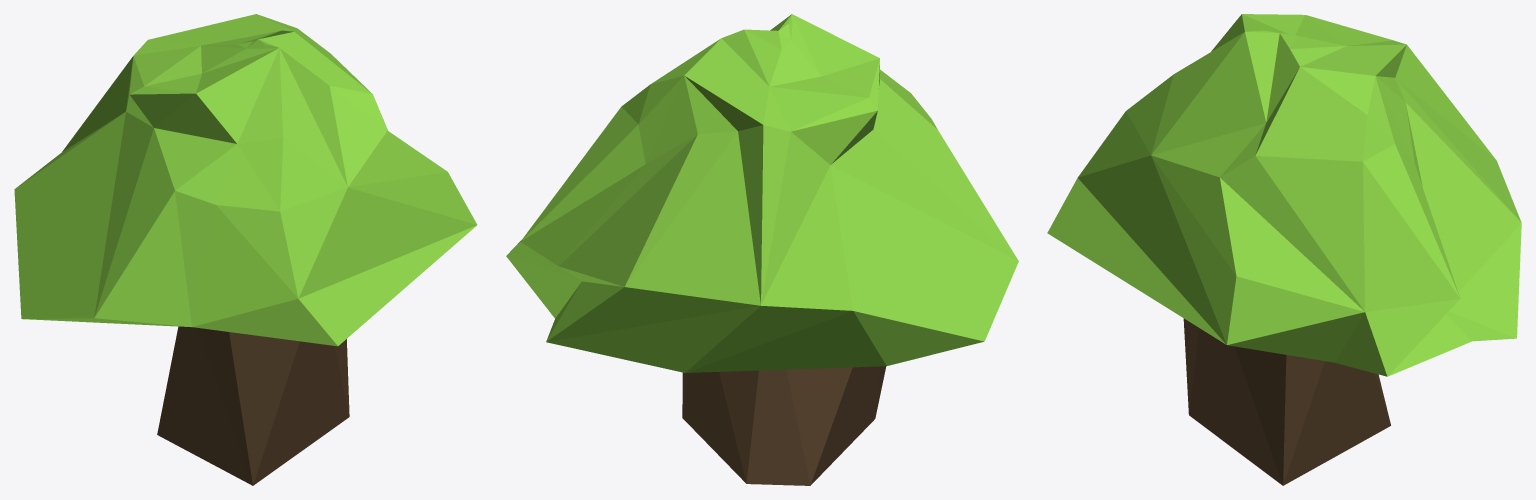
Rendered from Shrub2.fbx.
The picture shows the model from 3 angles, left to right: view 1: azimuth 30°, elevation 25°; view 2: azimuth 150°, elevation 25°; view 3: azimuth 270°, elevation 25°; orthographic projection.
Visible parts, largest first — view 1: Shrub2; view 2: Shrub2; view 3: Shrub2.
Boxes of the visible parts, <box> form: Shrub2: <box>14,14,477,485</box>; Shrub2: <box>506,14,1018,485</box>; Shrub2: <box>1047,14,1521,485</box>.
Bounding box in the file's own units: 66.1 × 59.38 × 61.72.
